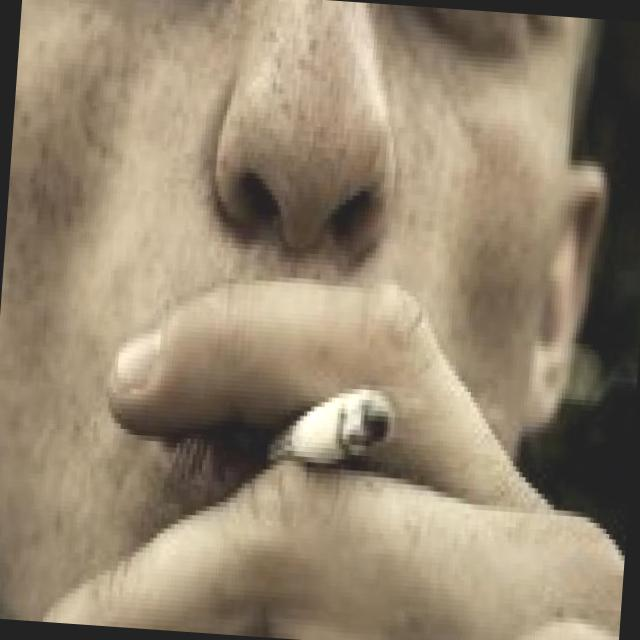smoke: (248, 351, 404, 488)
